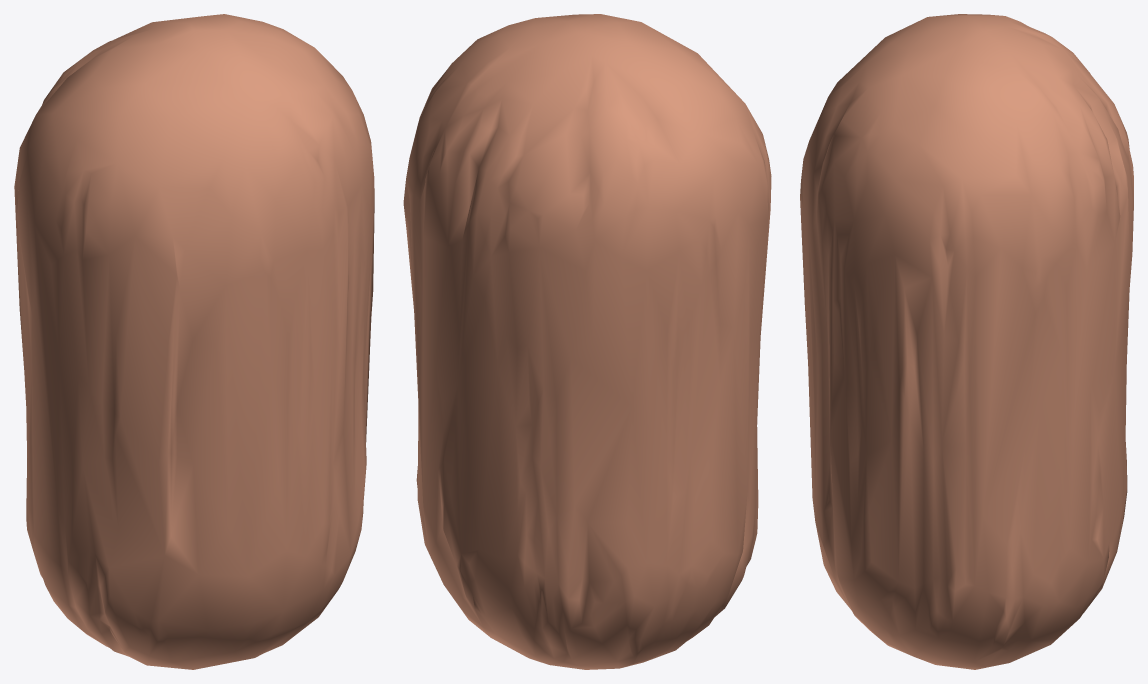
The model's file is uvula-of-palate.glb.
3 renders of one model, left to right at view 1: azimuth 30°, elevation 25°; view 2: azimuth 150°, elevation 25°; view 3: azimuth 270°, elevation 25°, orthographic.
Parts seen in each view (by area): view 1: Uvula of palate; view 2: Uvula of palate; view 3: Uvula of palate.
Boxes of the visible parts, x1,y1,x2,y2 form: Uvula of palate: [14, 14, 374, 669]; Uvula of palate: [403, 14, 771, 669]; Uvula of palate: [800, 14, 1133, 669].
Bounding box in the file's own units: 0.005 × 0.00929 × 0.00451.
